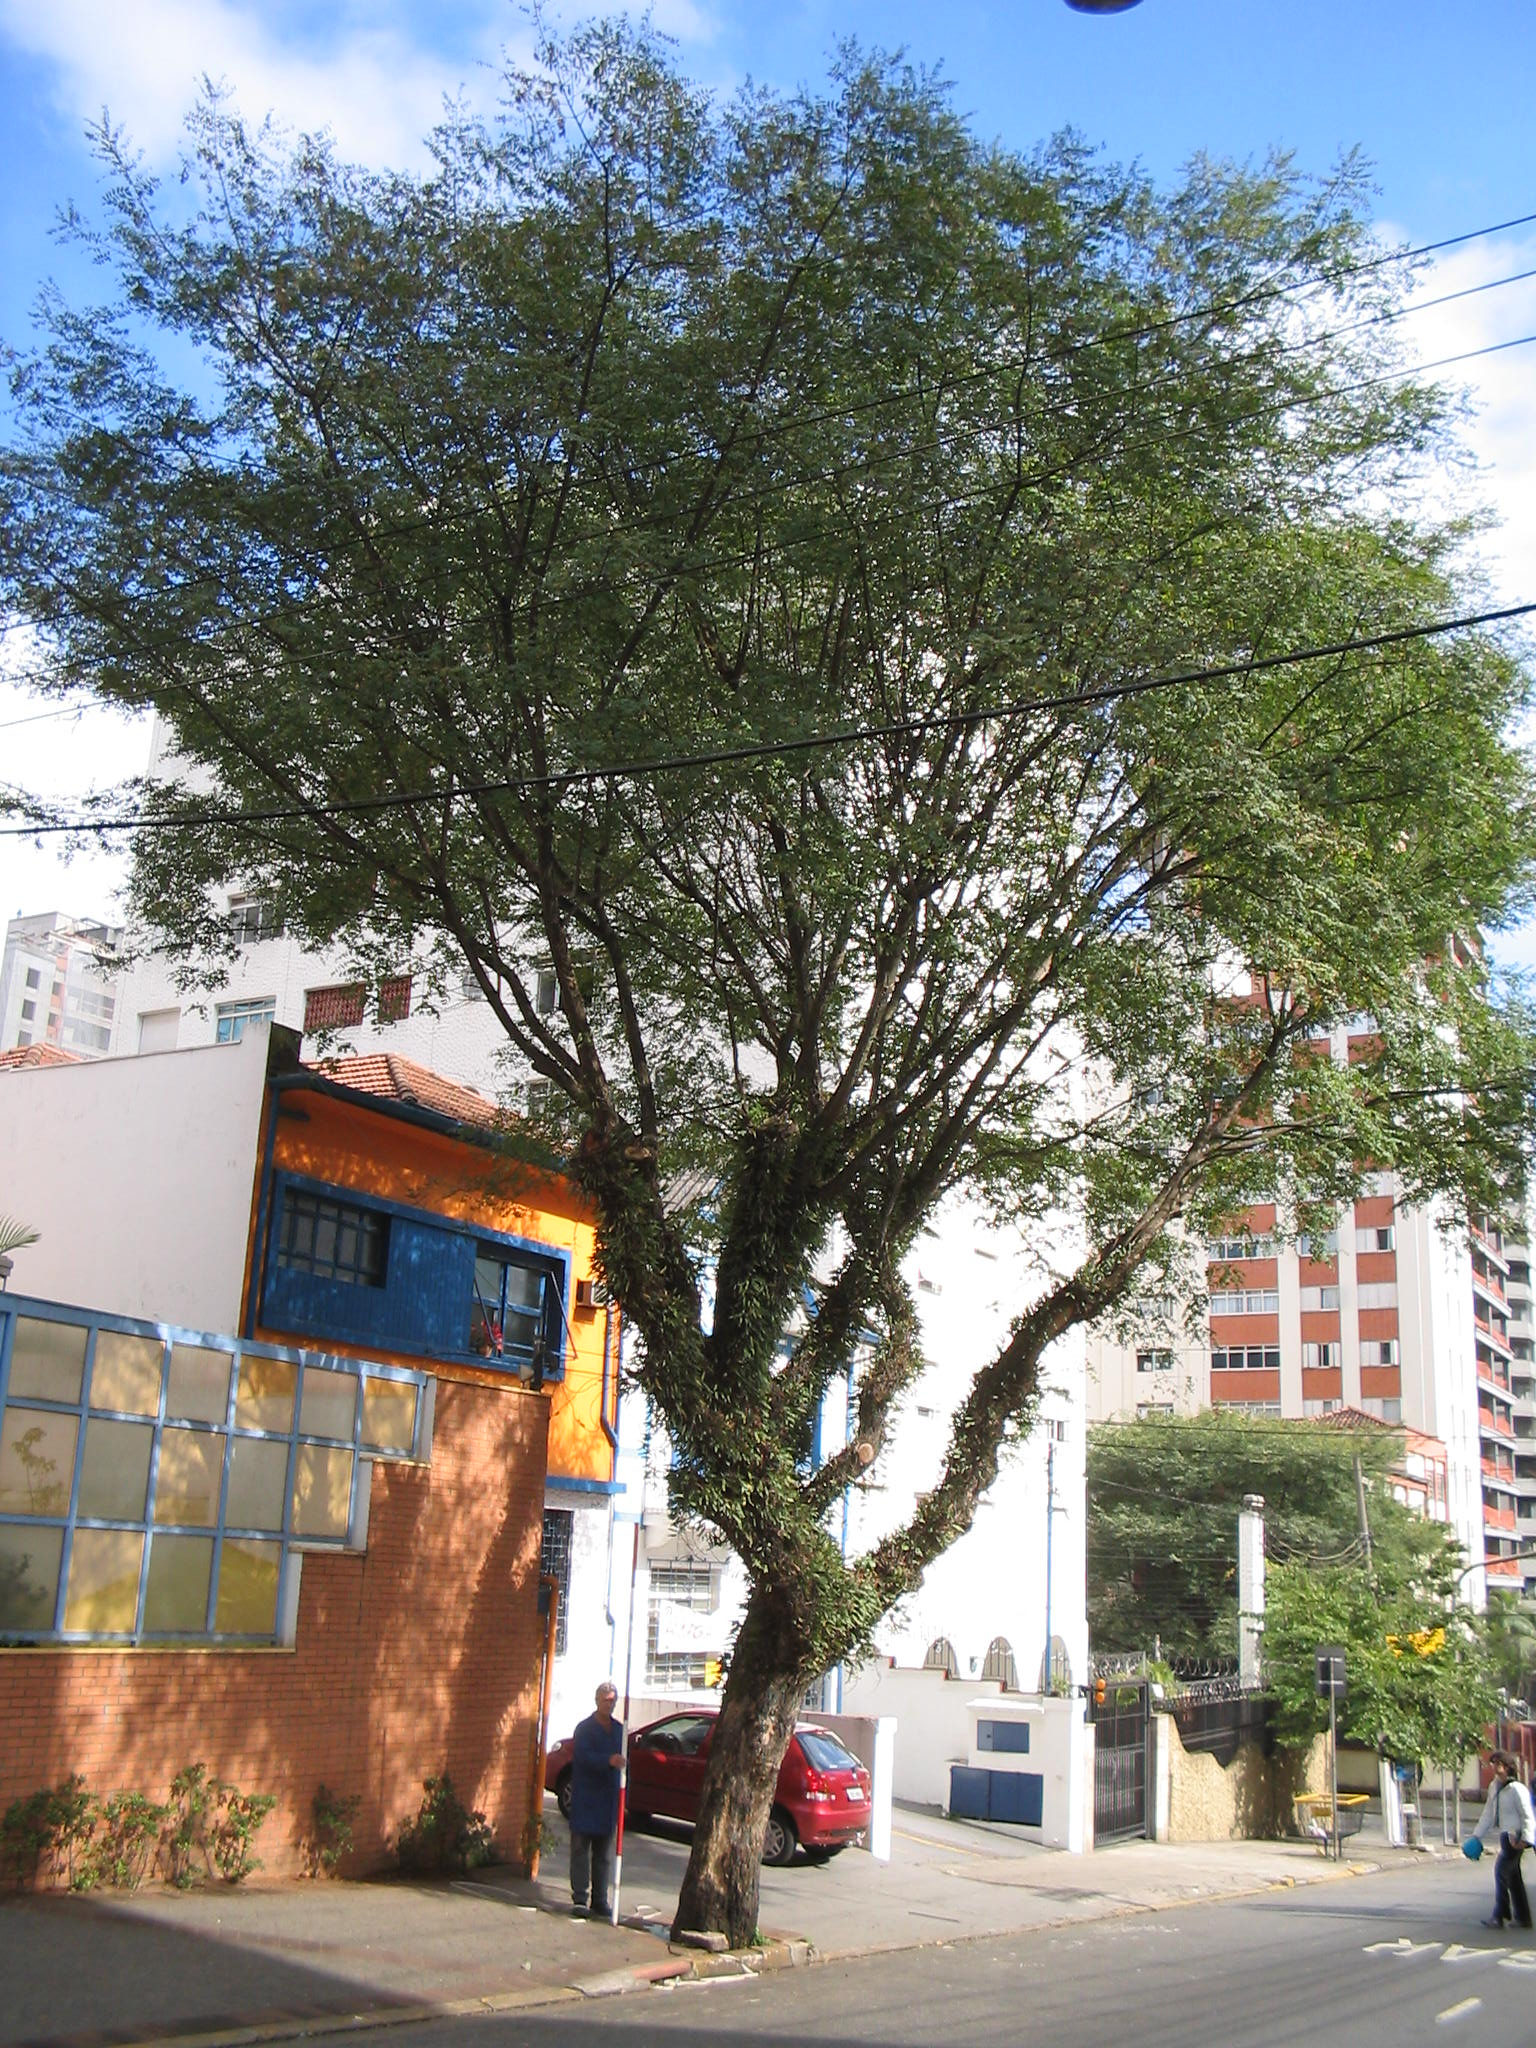crown: (10, 11, 1530, 1290)
stem: (679, 1634, 829, 1946)
stick: (607, 1517, 657, 1925)
tree: (6, 5, 1534, 1946)
